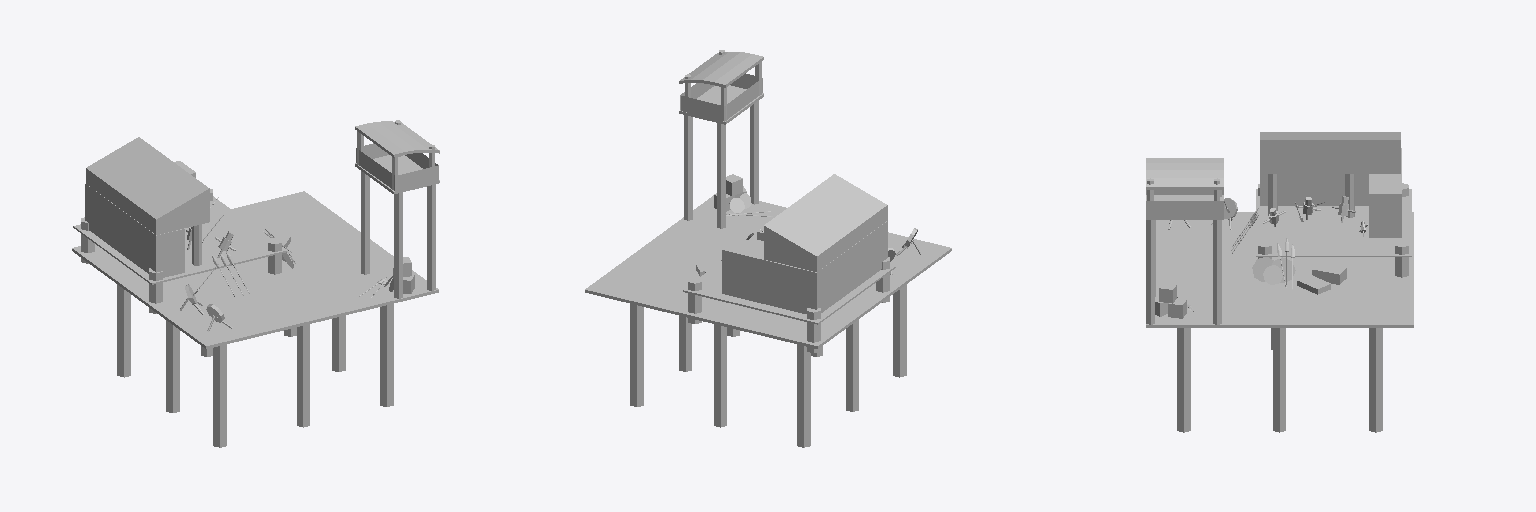
The model's file is BarracksTest1.obj.
The picture shows the model from 3 angles: view 1: azimuth 30°, elevation 25°; view 2: azimuth 150°, elevation 25°; view 3: azimuth 270°, elevation 25°; orthographic projection.
Visible parts, largest first — view 1: BarricadeEx1; view 2: BarricadeEx1; view 3: BarricadeEx1.
Part boxes in pixels (bbox=[...]): BarricadeEx1: bbox=[72, 120, 439, 447]; BarricadeEx1: bbox=[585, 50, 951, 447]; BarricadeEx1: bbox=[1146, 132, 1413, 432].
Bounding box in the file's own units: 9.04 × 9.82 × 9.